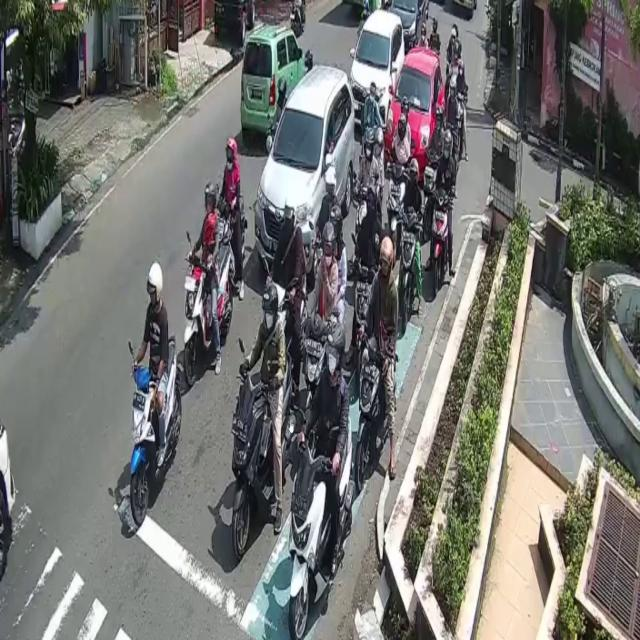bus: (289, 411, 354, 640), (233, 360, 295, 559), (130, 332, 182, 527), (181, 240, 231, 385), (359, 343, 399, 489), (397, 212, 418, 333), (430, 191, 450, 300)
motorcycle: (255, 63, 356, 273), (386, 46, 446, 180), (241, 23, 306, 129), (352, 8, 406, 124), (392, 0, 430, 52)
